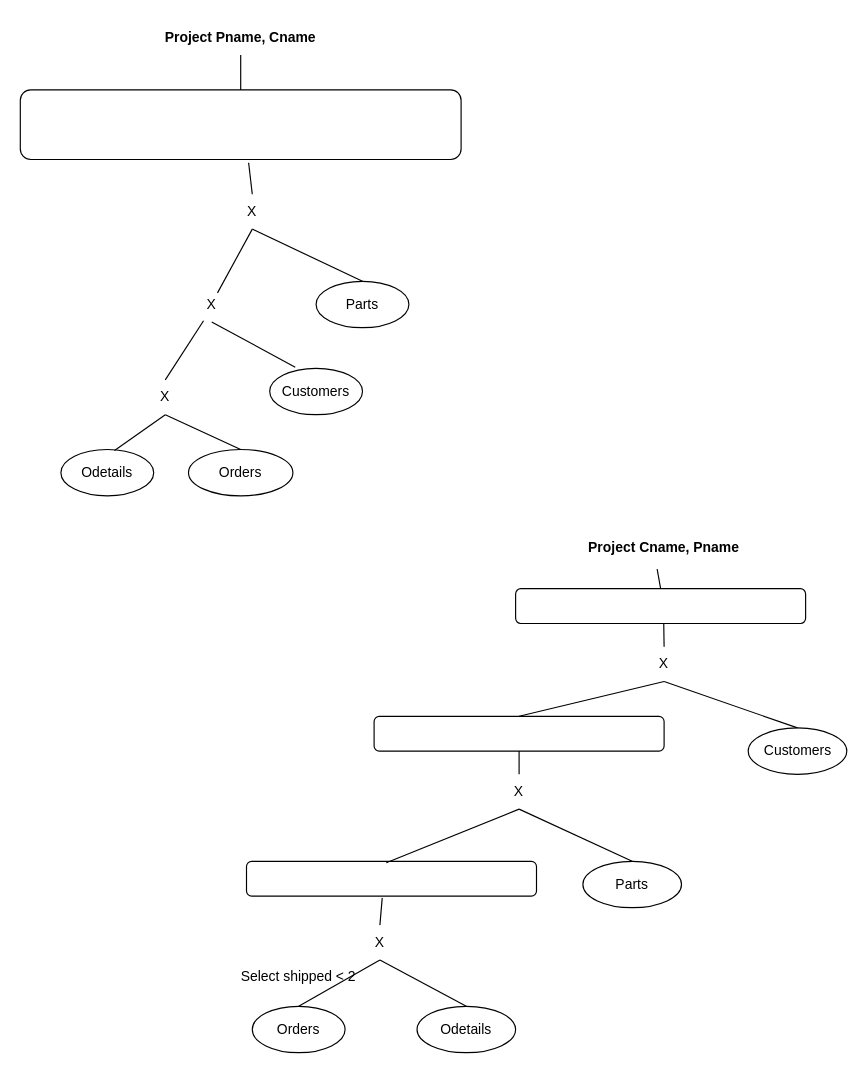
The diagram is 868 pixels wide and 1073 high, and some of its shapes have lost their labels. The centre of each missing label's shape, as x and y in pixels:
"Select Cno=Cno" belongs at (660,606).
"Select Ono=Ono" belongs at (390,878).
"Select Pno=Pno" belongs at (518,733).
"Select Pno=Pno AND Select Cno=Cno AND Select Ono=Ono AND Select Shipped < 2" belongs at (240,124).
